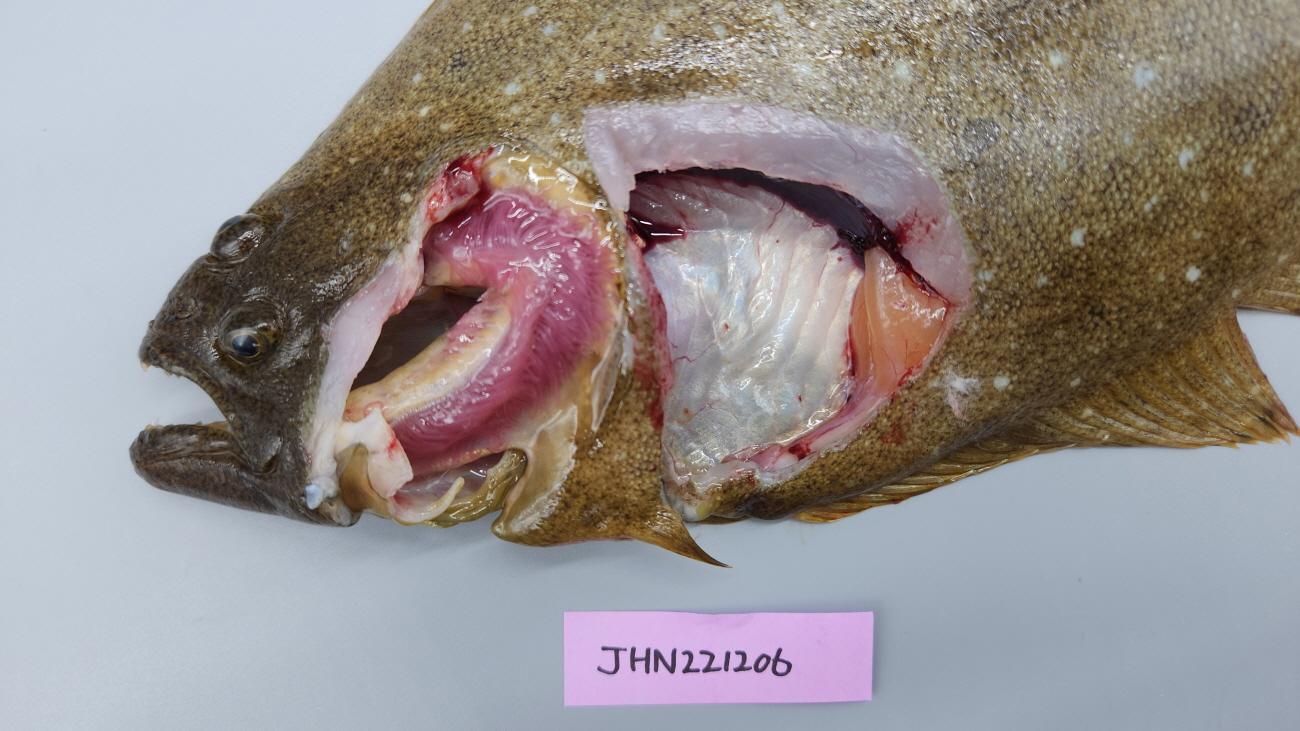POASN: (628, 171, 864, 476)
POKIN: (673, 166, 911, 266)
POREN: (721, 245, 951, 472)
